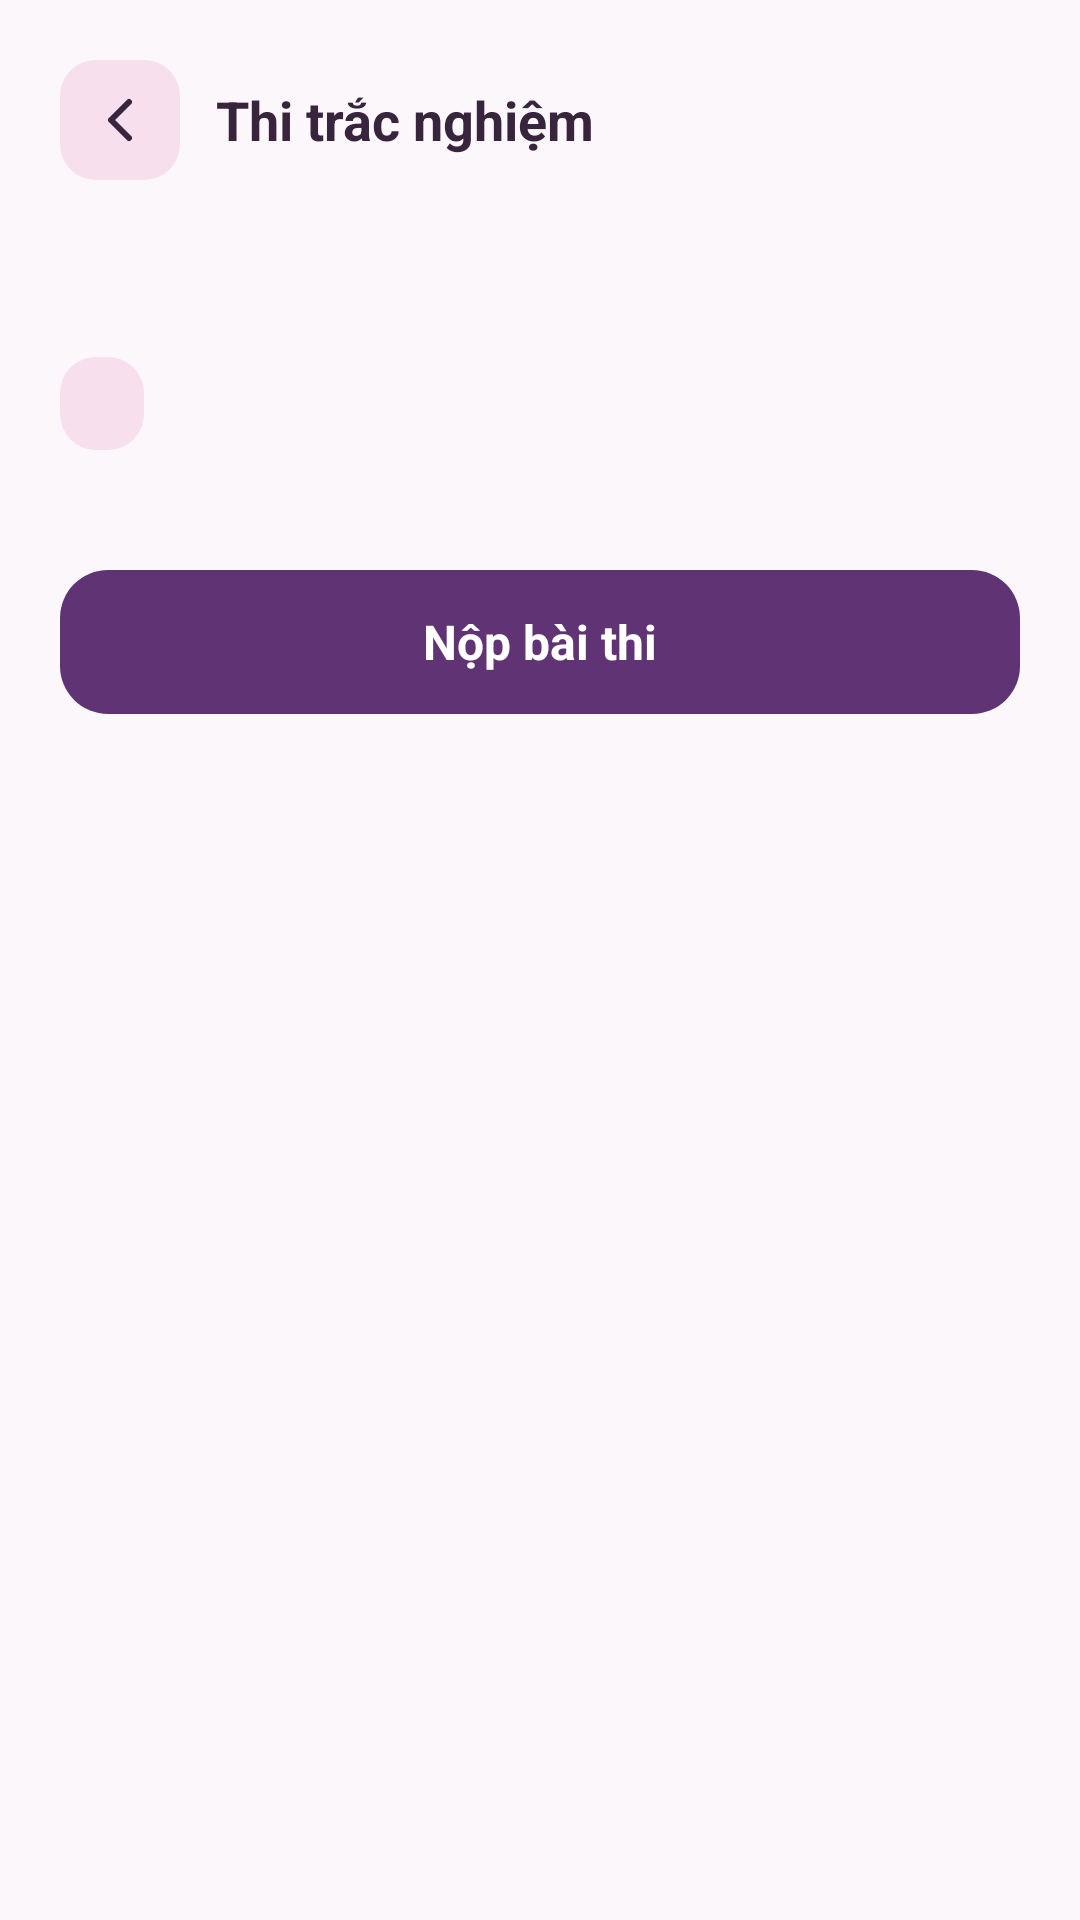

Screen size 1080px x 1920px. Icon name, then its box in pixels as (x1,y1,x2,y2):
Quay lại: (60,60,180,180)
